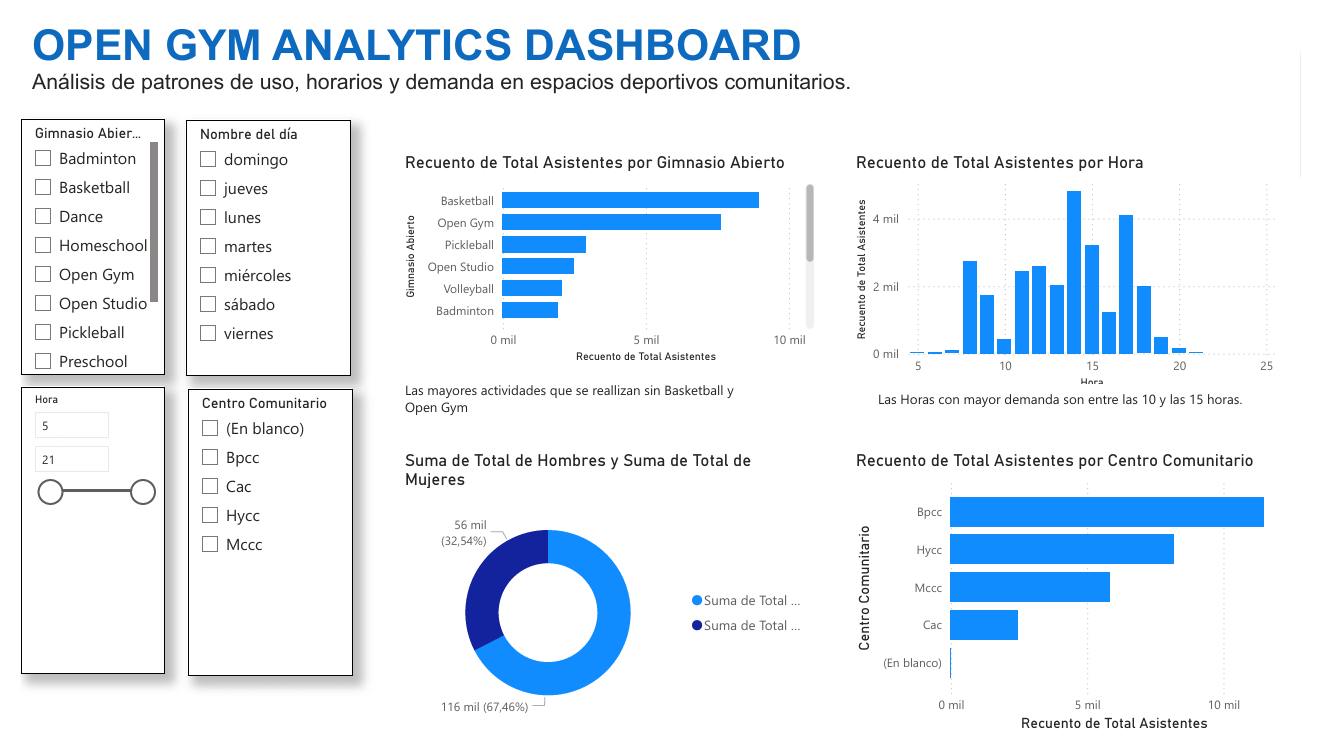

The dashboard page shown, as its layout file describes it:
{"tool":"powerbi","page":{"name":"Página 1","canvas":[1280,720],"ordinal":0},"visuals":[{"type":"clusteredBarChart","fields":{"Category":["open-gym.Gimnasio Abierto"],"Y":["CountNonNull(open-gym.Total Asistentes)"]},"box":[379.1,136.5,418.9,214.2],"z":0},{"type":"clusteredColumnChart","fields":{"Category":["open-gym.Hora"],"Y":["CountNonNull(open-gym.Total Asistentes)"]},"box":[830.2,136.5,428.4,240.7],"z":1000},{"type":"textbox","box":[379.1,360.1,363.9,72],"z":2000},{"type":"textbox","box":[851.7,368.8,384,64.6],"z":3000},{"type":"clusteredBarChart","fields":{"Category":["open-gym.Centro Comunitario"],"Y":["CountNonNull(open-gym.Total Asistentes)"]},"box":[830.2,434,449.2,286.2],"z":4000},{"type":"donutChart","fields":{"Y":["Sum(open-gym.Total de Hombres)","Sum(open-gym.Total de Mujeres)"]},"box":[379.1,434,418.9,286.2],"z":5000},{"type":"textbox","box":[5.7,0,1273.7,122.8],"z":6000},{"type":"slicer","fields":{"Values":["open-gym.Nombre del día"]},"box":[164.9,104.2,164.9,255.9],"z":7000},{"type":"slicer","fields":{"Values":["open-gym.Gimnasio Abierto"]},"box":[0,102.7,144.5,256.6],"z":8000},{"type":"slicer","fields":{"Values":["open-gym.Centro Comunitario"]},"box":[166.8,373.4,164.9,286.2],"z":9000},{"type":"slicer","fields":{"Values":["open-gym.Hora"]},"box":[0,371.5,144,286.2],"z":10000}]}

Visuals, with their boxes in screenshot pixels (x1, y1, x2, y2), scaled from the page's 1280x720 canvas onto the 1319x754 screenshot:
clusteredBarChart - open-gym.Gimnasio Abierto x CountNonNull(open-gym.Total Asistentes): Rect(391, 143, 822, 367)
clusteredColumnChart - open-gym.Hora x CountNonNull(open-gym.Total Asistentes): Rect(855, 143, 1297, 395)
textbox: Rect(391, 377, 766, 453)
textbox: Rect(878, 386, 1273, 454)
clusteredBarChart - open-gym.Centro Comunitario x CountNonNull(open-gym.Total Asistentes): Rect(855, 454, 1318, 753)
donutChart - Sum(open-gym.Total de Hombres) x Sum(open-gym.Total de Mujeres): Rect(391, 454, 822, 753)
textbox: Rect(6, 0, 1318, 129)
slicer - open-gym.Nombre del día: Rect(170, 109, 340, 377)
slicer - open-gym.Gimnasio Abierto: Rect(0, 108, 149, 376)
slicer - open-gym.Centro Comunitario: Rect(172, 391, 342, 691)
slicer - open-gym.Hora: Rect(0, 389, 148, 689)
